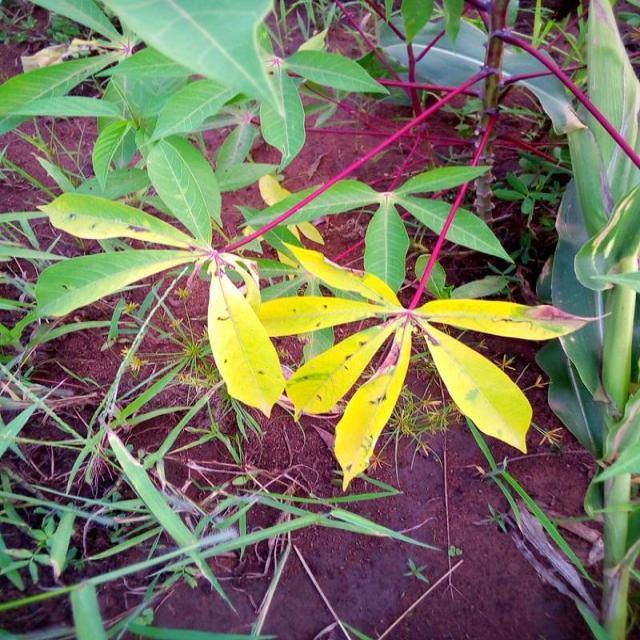cassava leaf: (206, 265, 286, 418)
